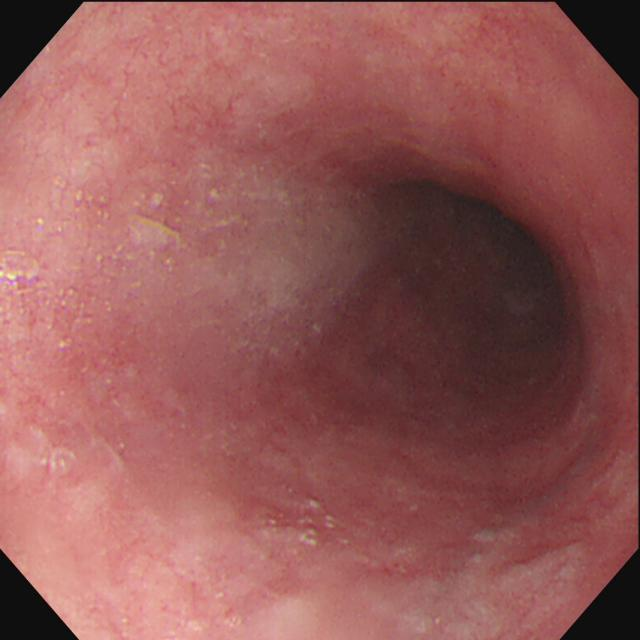E: (424, 160, 580, 360)
J: (130, 165, 377, 333), (465, 527, 586, 599), (300, 499, 336, 546)
